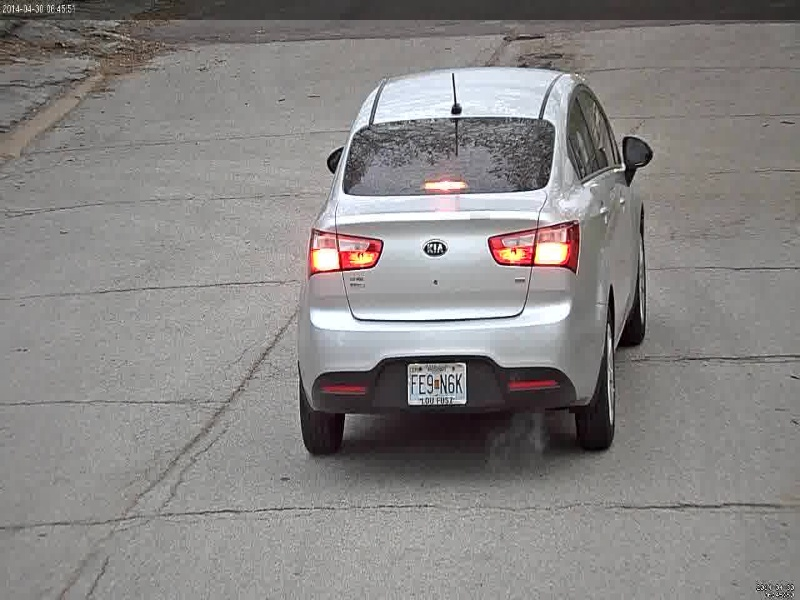licence plate: (405, 362, 466, 406)
